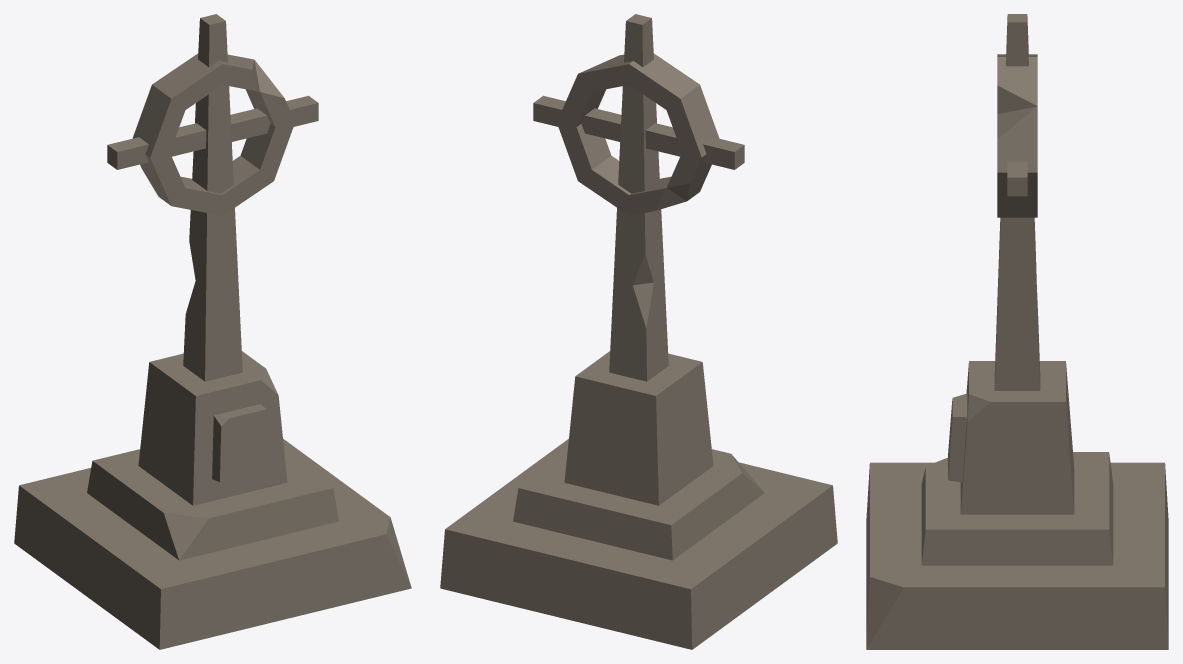
The model's file is SM_Prop_Grave_04.glb.
The picture shows the model from 3 angles, left to right: view 1: azimuth 30°, elevation 25°; view 2: azimuth 150°, elevation 25°; view 3: azimuth 270°, elevation 25°; orthographic projection. The views are drawn at different scales.
Parts seen in each view (by area): view 1: SM_Prop_Grave_04_part00; view 2: SM_Prop_Grave_04_part00; view 3: SM_Prop_Grave_04_part00.
Part boxes in pixels (<box>): SM_Prop_Grave_04_part00: <box>14,14,411,649</box>; SM_Prop_Grave_04_part00: <box>440,14,837,649</box>; SM_Prop_Grave_04_part00: <box>866,14,1168,649</box>.
Size of the model in its own units: 1.06 by 2.2 by 1.06.
1 material, 1 textured.
